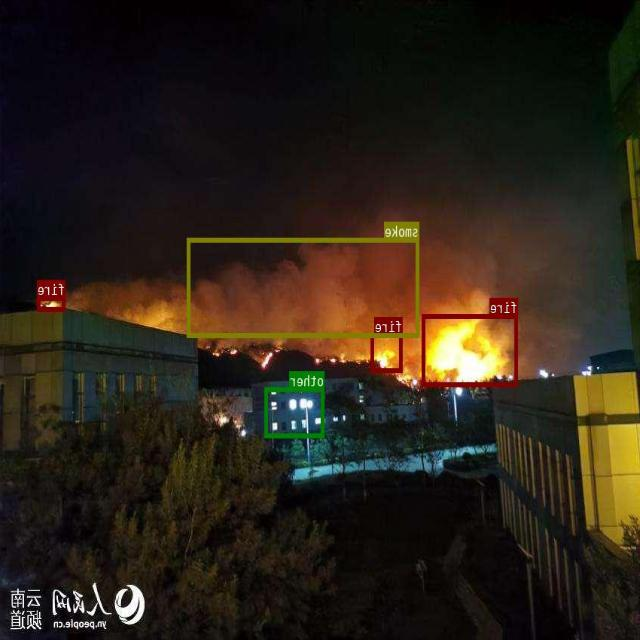fire: (423, 314, 518, 386), (372, 332, 403, 372), (38, 296, 66, 310)
other: (266, 387, 324, 438)
smoke: (188, 238, 420, 336)
